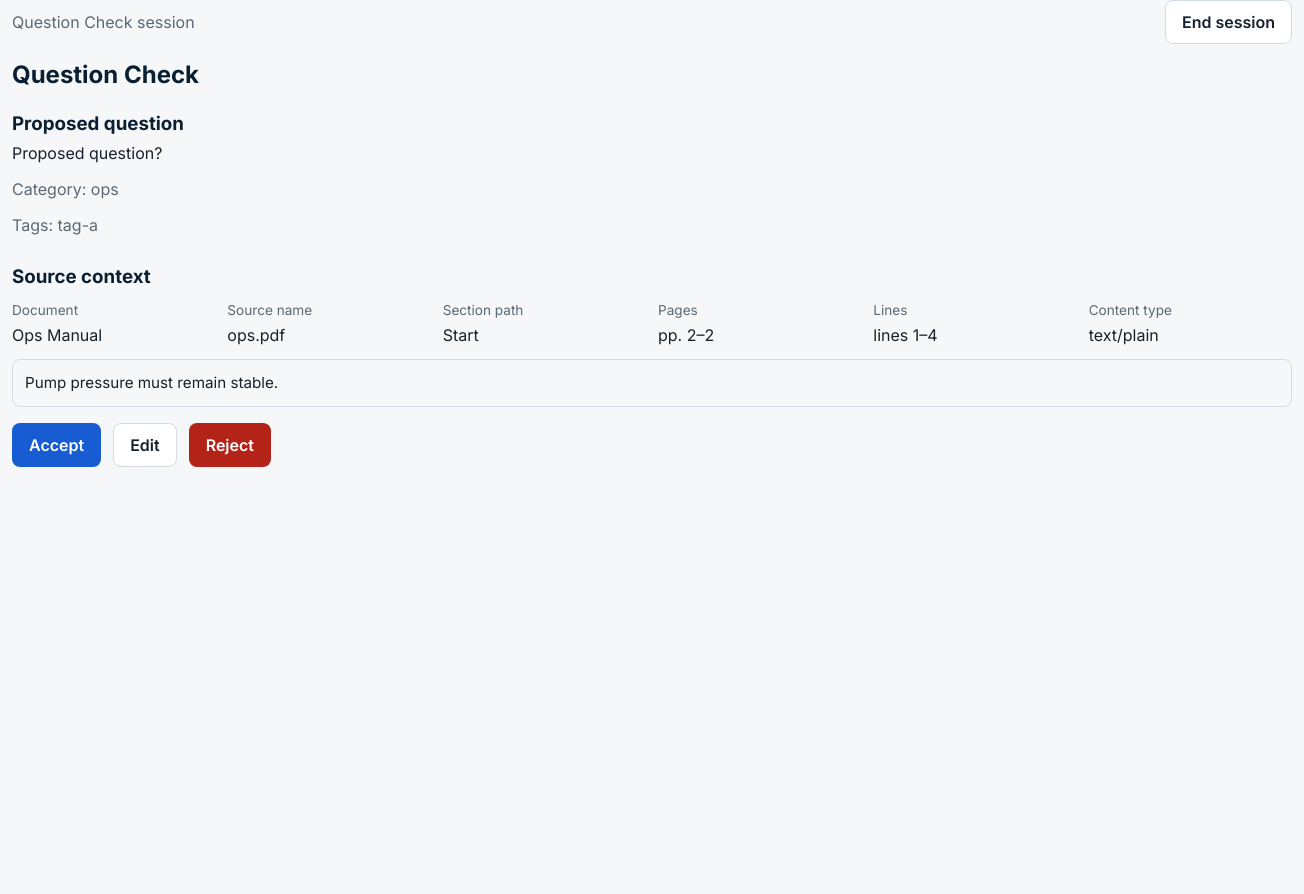
16G-I2 Rapid Fire / Question Check session (direct work session) › surfaces no-op edit backend failures safely
Check: the text "Proposed question?" is shown, box [12,143,162,163]
Click the button "Edit". click: (145, 445)
box: [113,423,177,467]
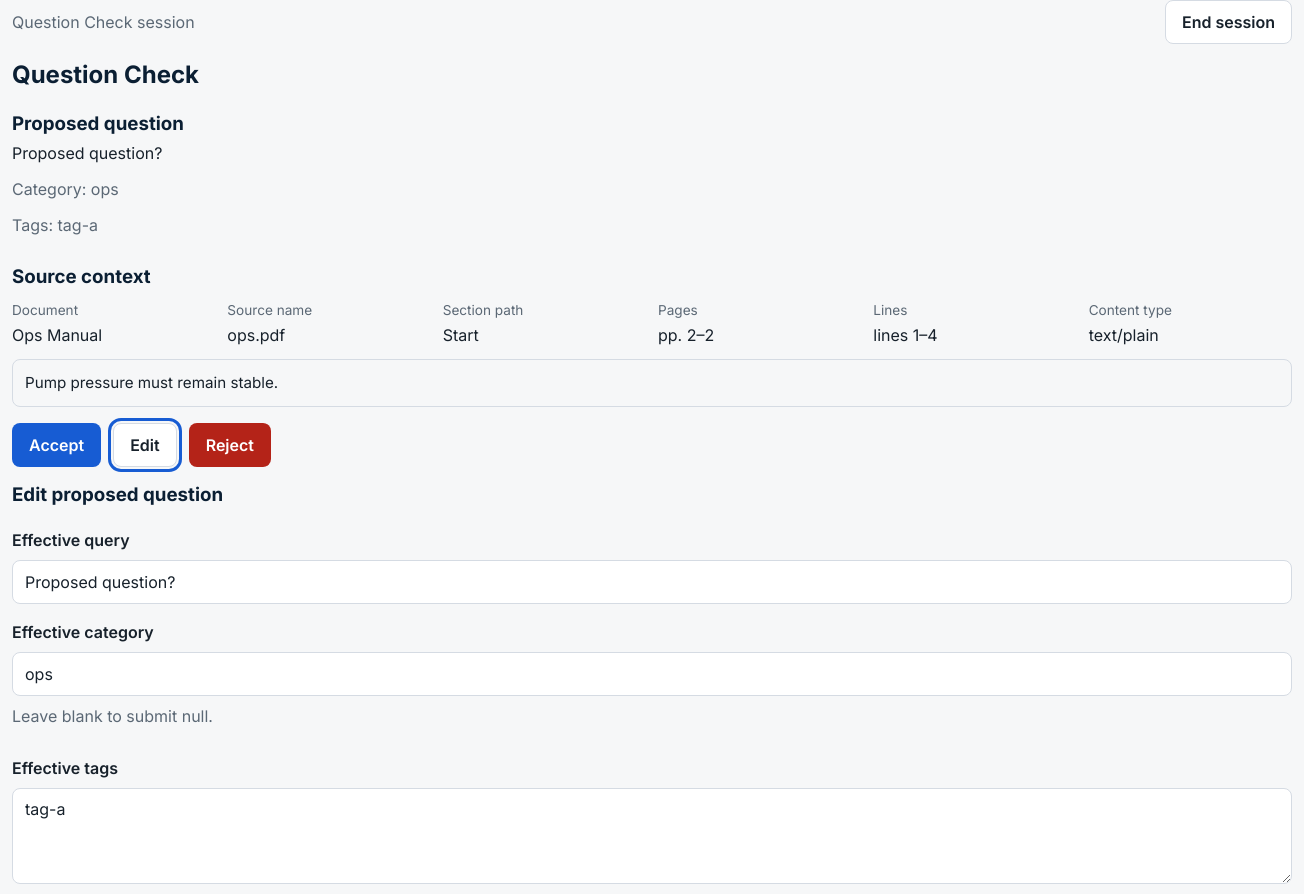
Type " changed" into the field labelled "Effective query". click: (652, 582)
box: [12,560,1292,604]
(page scrolled)
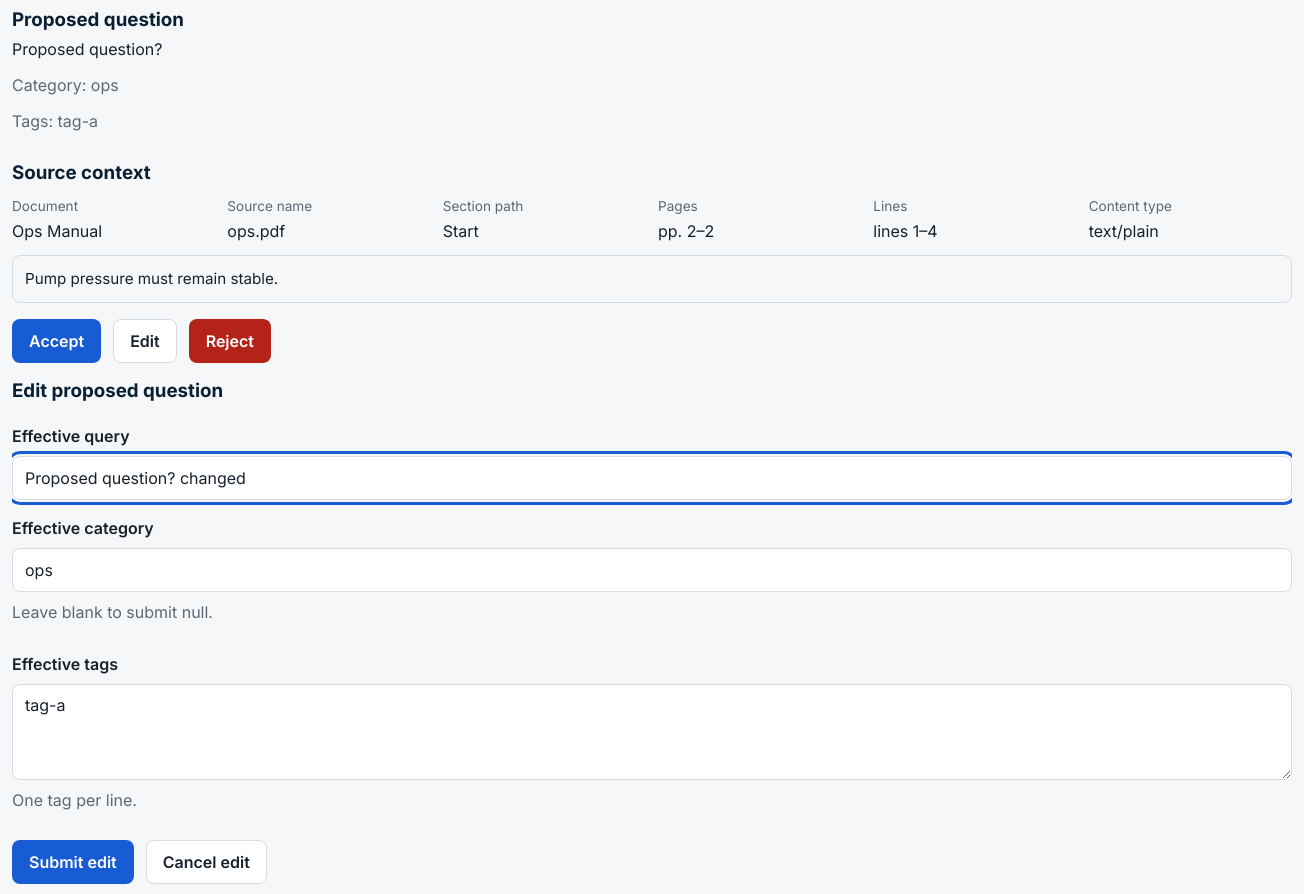
Click the button "Submit edit". click: (73, 862)
box: [12,840,134,884]
(page scrolled)
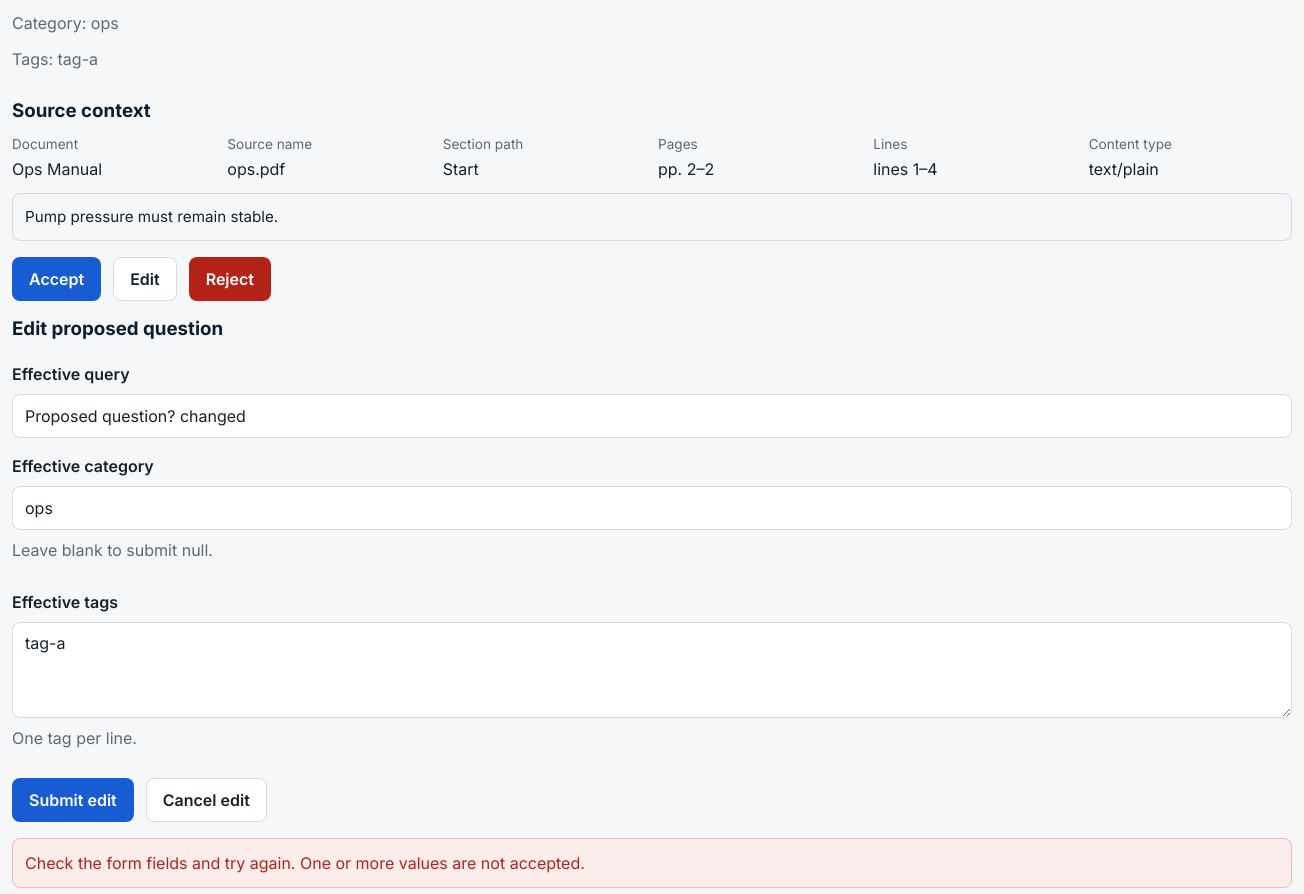
Check: the message shows "Check the form fields", box [25,853,585,873]
